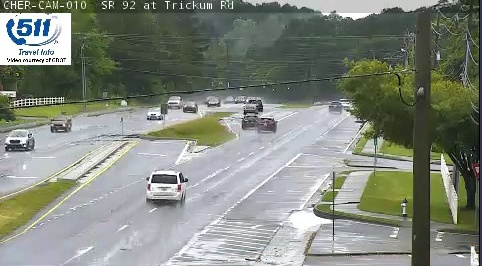car: (147, 171, 185, 198), (242, 113, 261, 129), (258, 117, 277, 131)
